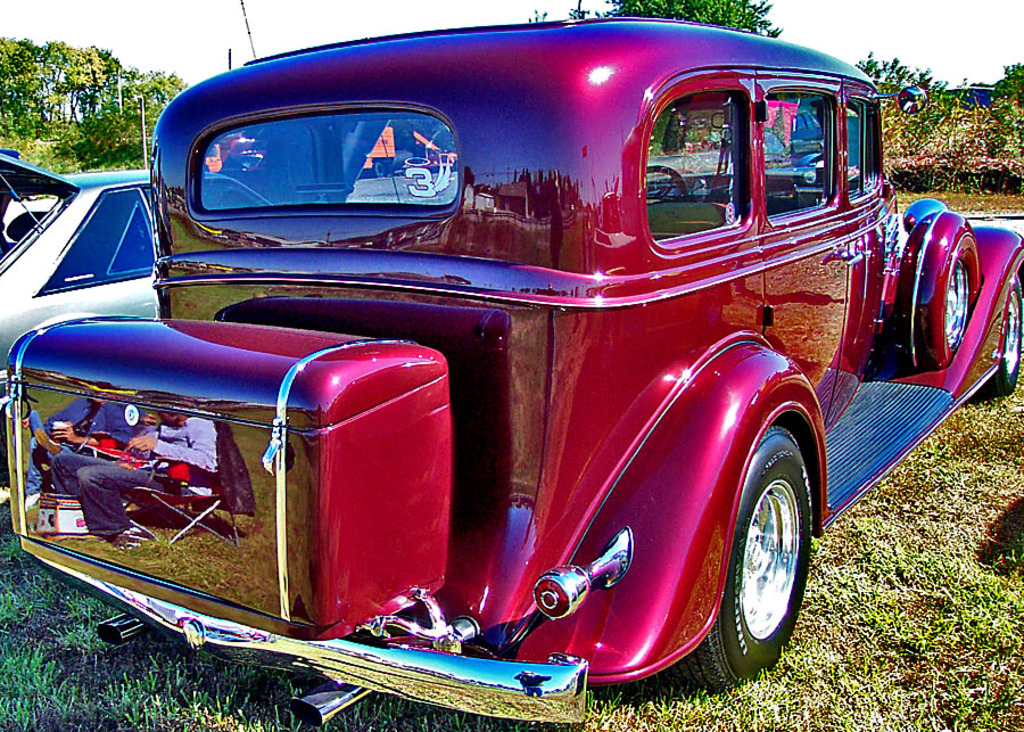Car: (0, 12, 1022, 721), (0, 147, 267, 369)
